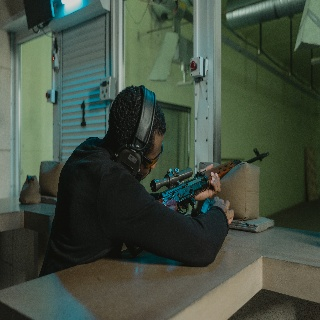rifle: (150, 147, 272, 220)
